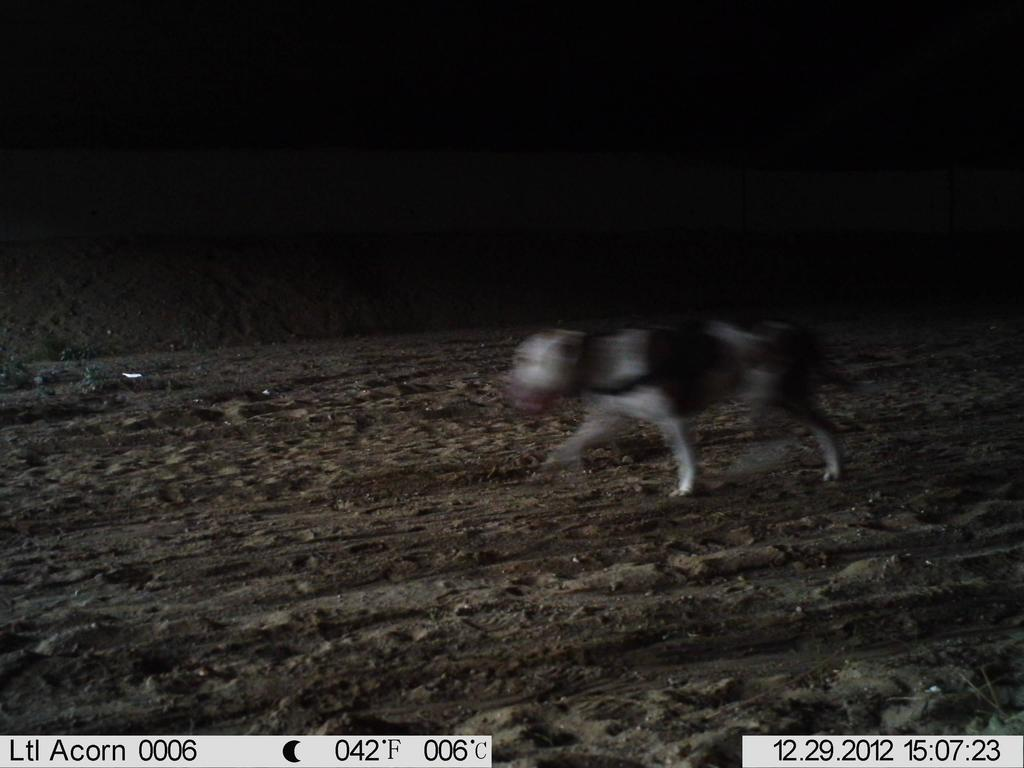dog: (479, 292, 881, 520)
